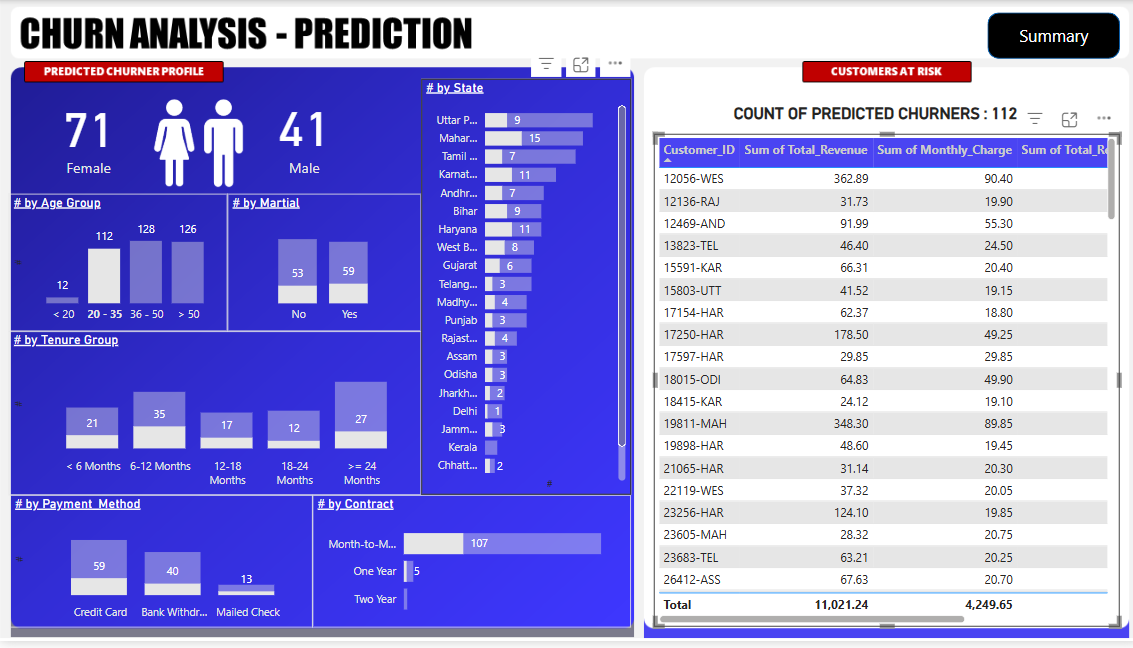

What the dashboard file says about the page in this screenshot:
{"tool":"powerbi","page":{"name":"Churn Prediction","canvas":[1280,720],"ordinal":2},"visuals":[{"type":"tableEx","fields":{"Values":["Predictions.Customer_ID","Sum(Predictions.Total_Revenue)","Sum(Predictions.Monthly_Charge)","Sum(Predictions.Total_Refunds)","Sum(Predictions.Number_of_Referrals)"]},"box":[734.2,150.2,523.6,554.5],"z":0},{"type":"card","fields":{"Values":["tbl_measures.Title Predicted Churners"]},"box":[708.9,105.3,548.9,44.9],"z":1000},{"type":"card","fields":{"Values":["tbl_measures.Count Predicted Churner"]},"box":[18.2,88.4,162.8,123.5],"z":1001},{"type":"card","fields":{"Values":["tbl_measures.Count Predicted Churner"]},"box":[255.5,92.7,172.7,113.7],"z":1002},{"type":"clusteredColumnChart","fields":{"Category":["mapping_AgeGrp.Age Group "],"Y":["CountNonNull(Predictions.Customer_ID)"]},"box":[9.8,217.6,245.7,154.4],"z":1003},{"type":"clusteredColumnChart","fields":{"Category":["mapping_TenureGrp.Tenure Group "],"Y":["CountNonNull(Predictions.Customer_ID)"]},"box":[9.8,372,463.3,183.9],"z":1004},{"type":"clusteredColumnChart","fields":{"Category":["Predictions.Married"],"Y":["CountNonNull(Predictions.Customer_ID)"]},"box":[255.5,217.6,217.6,154.4],"z":1005},{"type":"clusteredColumnChart","fields":{"Category":["Predictions.Payment_Method"],"Y":["CountNonNull(Predictions.Customer_ID)"]},"box":[11.2,555.9,339.7,148.8],"z":1006},{"type":"clusteredBarChart","fields":{"Category":["Predictions.Contract"],"Y":["CountNonNull(Predictions.Customer_ID)"]},"box":[351,555.9,358,148.8],"z":1007},{"type":"clusteredBarChart","fields":{"Category":["Predictions.State"],"Y":["CountNonNull(Predictions.Customer_ID)"]},"box":[473.1,88.4,235.8,467.5],"z":1008},{"type":"image","box":[151.6,92.7,141.8,134.8],"z":1009},{"type":"shape","box":[1109,14,148.8,51.9],"z":1010}]}

Visuals, with their boxes in screenshot pixels (x1, y1, x2, y2), scaled from the page's 1280x720 canvas onto the 1133x648 screenshot:
tableEx - Predictions.Customer_ID x Sum(Predictions.Total_Revenue): pyautogui.locateOnScreen(650, 135, 1113, 634)
card - tbl_measures.Title Predicted Churners: pyautogui.locateOnScreen(627, 95, 1113, 135)
card - tbl_measures.Count Predicted Churner: pyautogui.locateOnScreen(16, 80, 160, 191)
card - tbl_measures.Count Predicted Churner: pyautogui.locateOnScreen(226, 83, 379, 186)
clusteredColumnChart - mapping_AgeGrp.Age Group  x CountNonNull(Predictions.Customer_ID): pyautogui.locateOnScreen(9, 196, 226, 335)
clusteredColumnChart - mapping_TenureGrp.Tenure Group  x CountNonNull(Predictions.Customer_ID): pyautogui.locateOnScreen(9, 335, 419, 500)
clusteredColumnChart - Predictions.Married x CountNonNull(Predictions.Customer_ID): pyautogui.locateOnScreen(226, 196, 419, 335)
clusteredColumnChart - Predictions.Payment_Method x CountNonNull(Predictions.Customer_ID): pyautogui.locateOnScreen(10, 500, 311, 634)
clusteredBarChart - Predictions.Contract x CountNonNull(Predictions.Customer_ID): pyautogui.locateOnScreen(311, 500, 628, 634)
clusteredBarChart - Predictions.State x CountNonNull(Predictions.Customer_ID): pyautogui.locateOnScreen(419, 80, 627, 500)
image: pyautogui.locateOnScreen(134, 83, 260, 205)
shape: pyautogui.locateOnScreen(982, 13, 1113, 59)
